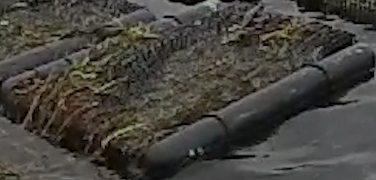bag: (3, 1, 371, 169)
